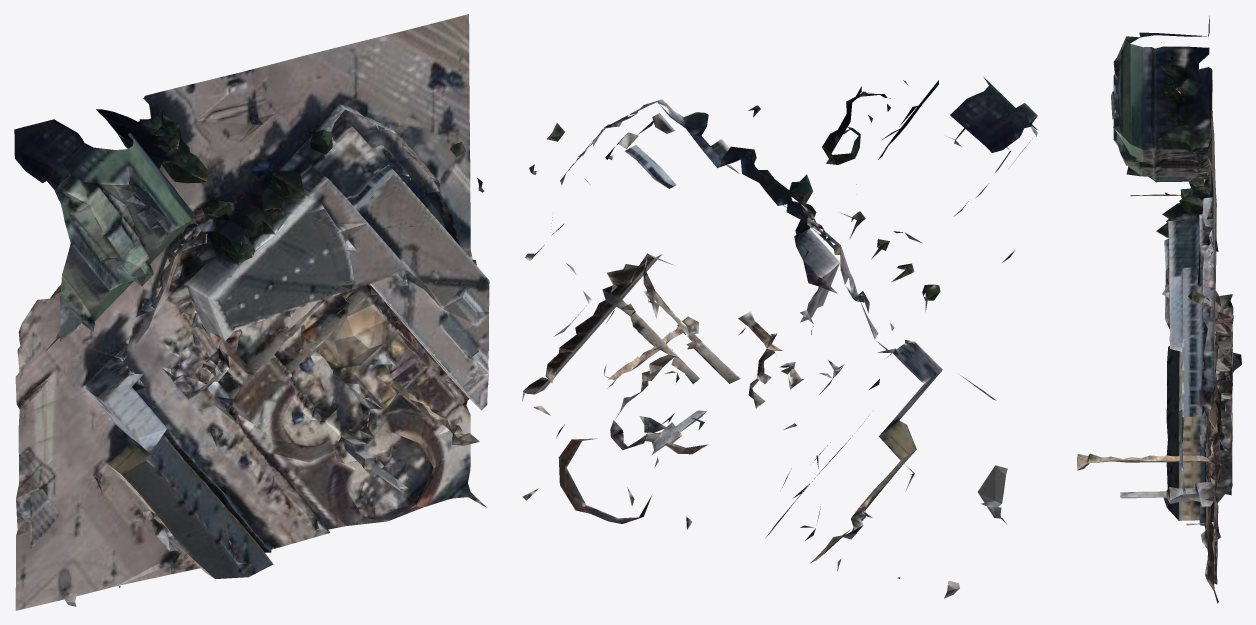
The model's file is Tile_+032_+021_L17_0001.glb.
3 views of the same model, side by side, from view 1: azimuth 30°, elevation 25°; view 2: azimuth 150°, elevation 25°; view 3: azimuth 270°, elevation 25° (orthographic). The views are drawn at different scales.
Size of the model in its own units: 126 by 126 by 46.27.
Materials: 1 (1 with a texture image).
